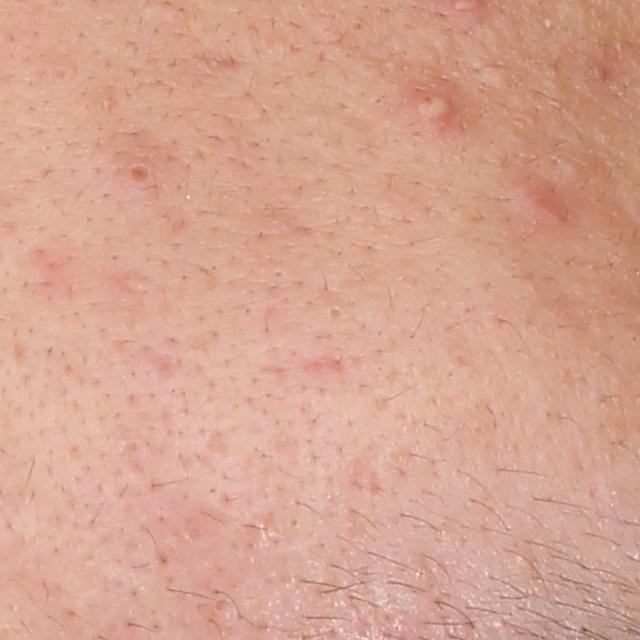atrophic_scar: (132, 341, 192, 387)
comedo: (120, 156, 164, 192), (210, 594, 229, 617), (325, 305, 343, 321)
papule: (520, 188, 571, 231)
pustule: (414, 90, 456, 130)
